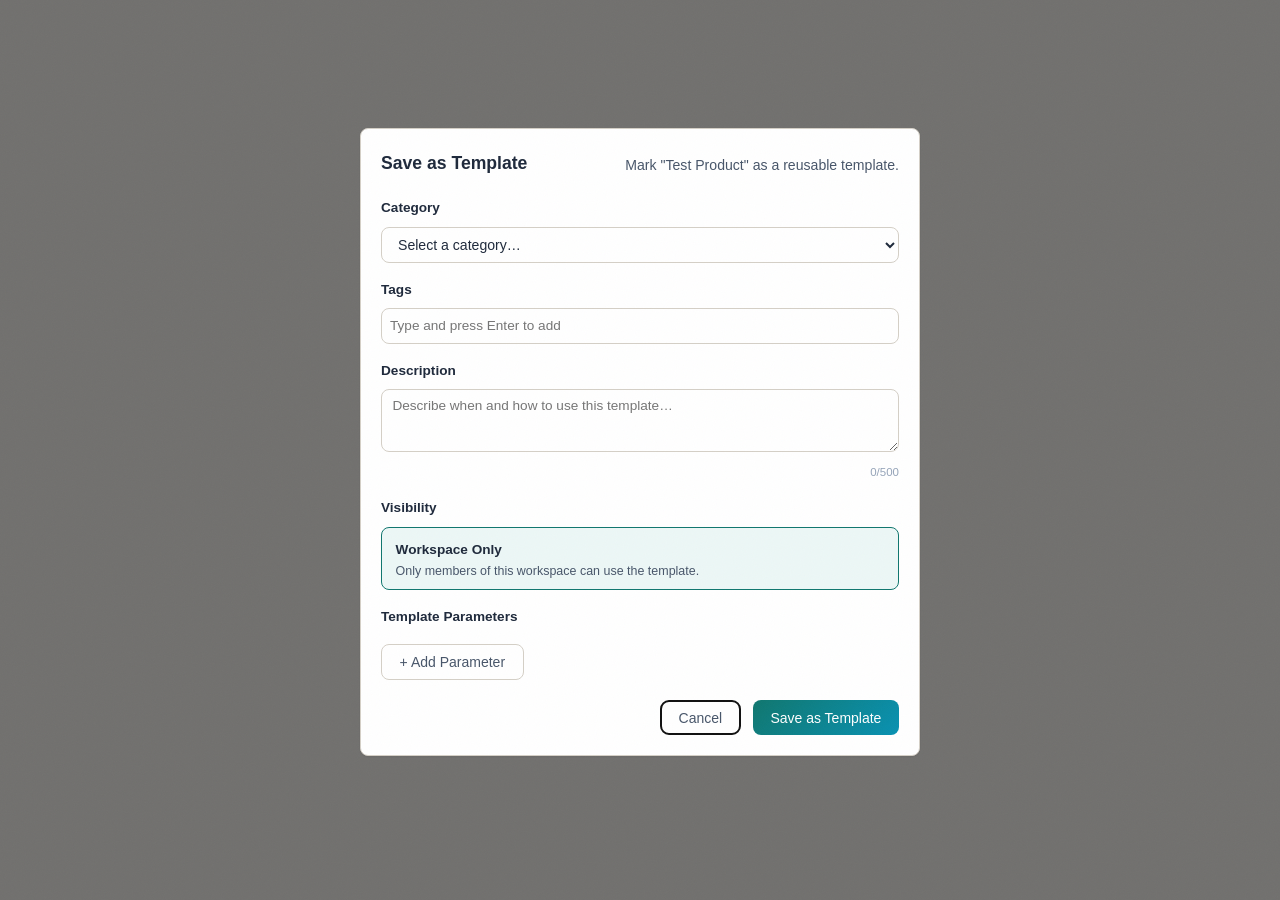
TemplateConfigDialog › adds a parameter row when Add Parameter is clicked
Click the button "+ Add Parameter": point(452, 662) [381,644,524,680]
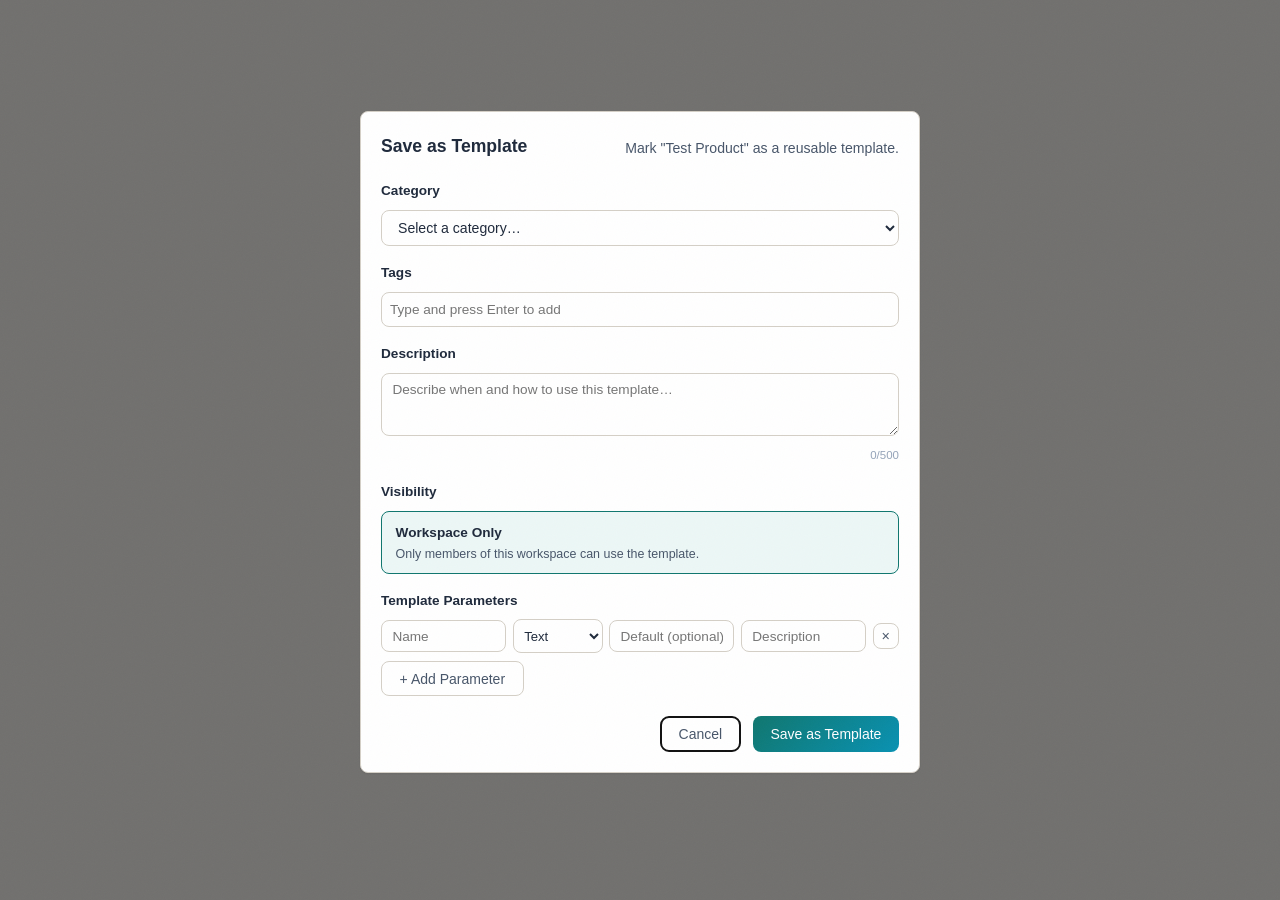
Check: the field named "Parameter 1 name" is shown, box [381,620,506,652]
Check: the dropdown named "Parameter 1 type" is shown, box [513,619,603,653]
